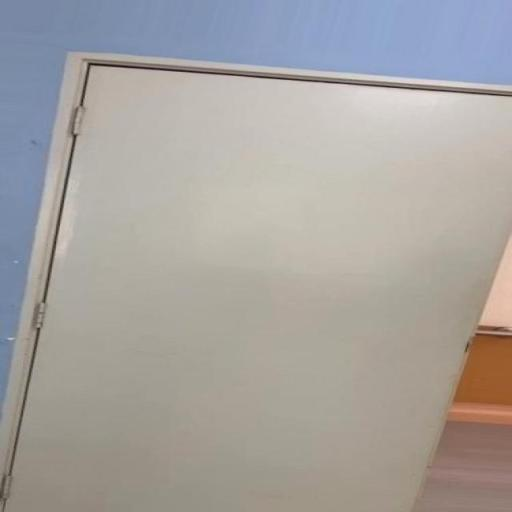door: (0, 49, 510, 511)
